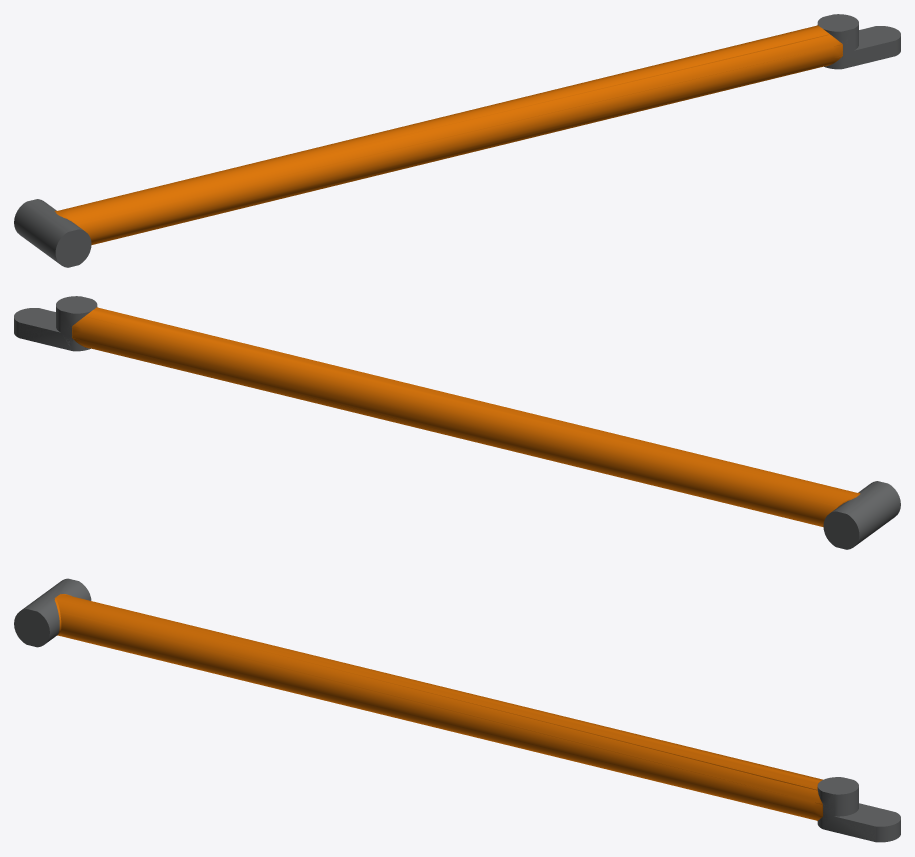
The picture shows the model from 3 angles, top to bottom: view 1: azimuth 30°, elevation 25°; view 2: azimuth 150°, elevation 25°; view 3: azimuth 330°, elevation 25°; orthographic projection.
Parts seen in each view (by area): view 1: j4_LOD0, j4_col; view 2: j4_LOD0, j4_col; view 3: j4_LOD0, j4_col.
Boxes of the visible parts, bbox=[...] form: j4_LOD0: bbox=[14, 14, 900, 267]; j4_col: bbox=[27, 14, 899, 266]; j4_LOD0: bbox=[14, 296, 900, 549]; j4_col: bbox=[15, 296, 883, 549]; j4_LOD0: bbox=[14, 578, 900, 842]; j4_col: bbox=[14, 579, 900, 841].
Size of what is drawn, in the model's own units: 288 by 12 by 24.
